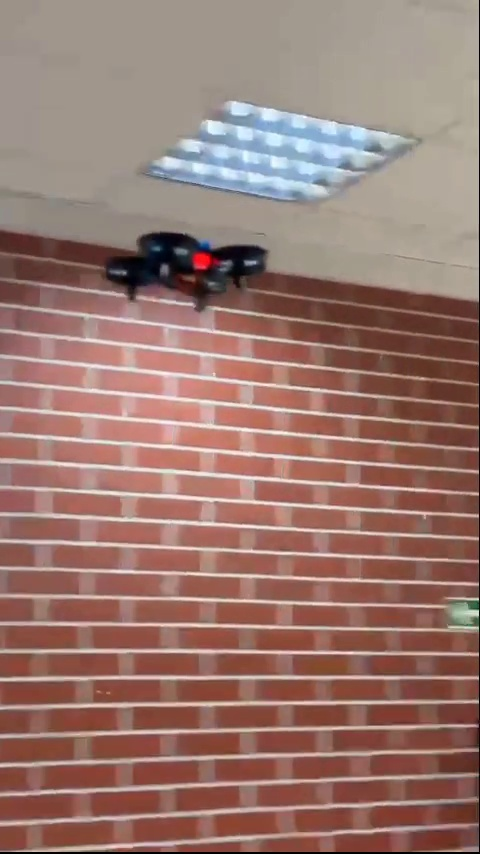drone: (100, 234, 267, 309)
